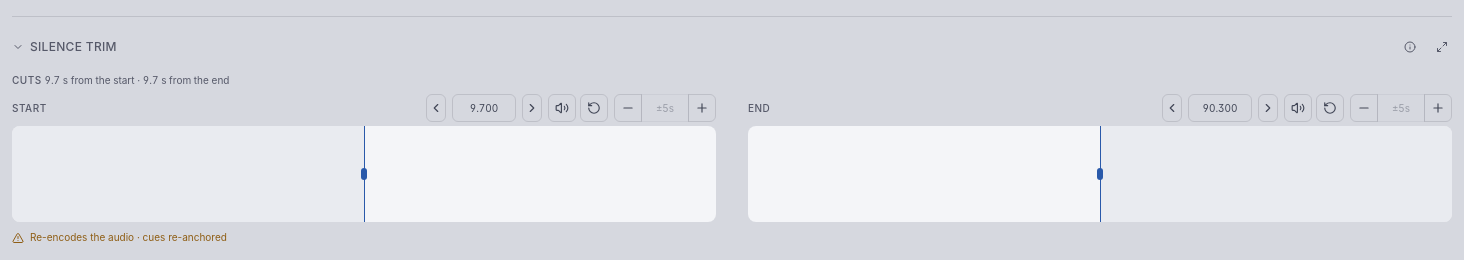
Scenario: TrimSection › zooms each lane independently of the other
The image size is (1464, 260).
Check: the button with test id "trim-context-start" reads "±5s", box x1=641 y1=94 x2=689 y2=122
Check: the button with test id "trim-context-end" reads "±5s", box x1=1377 y1=94 x2=1425 y2=122
# Narrowing the head lane leaves the tail lane exactly where it was.
Click the button with test id "trim-zoom-in-start". click: x=702, y=108
box: x1=688 y1=94 x2=716 y2=122
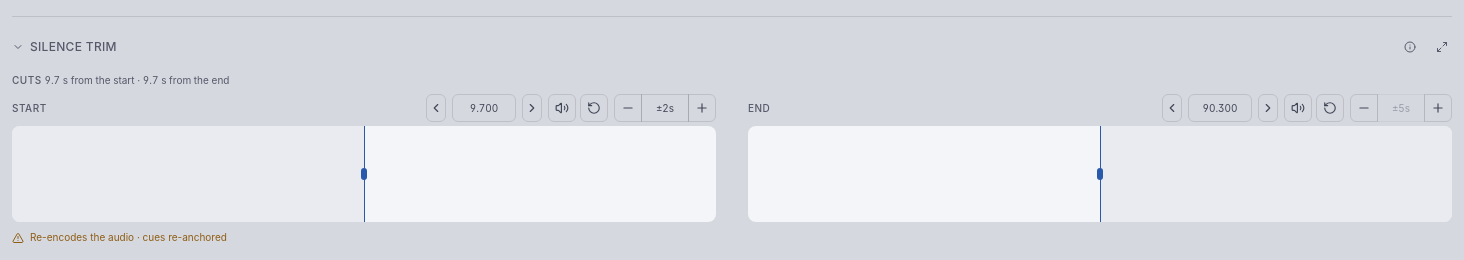
Click the button with test id "trim-zoom-in-start". click: x=702, y=108
box: x1=688 y1=94 x2=716 y2=122
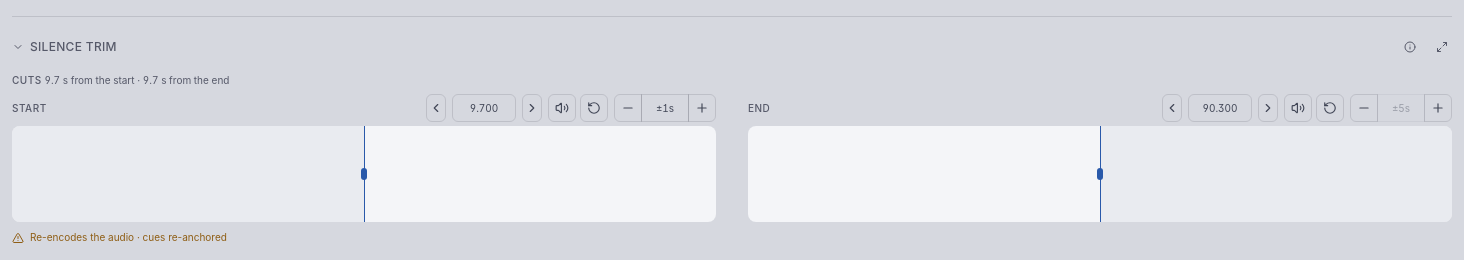
Check: the button with test id "trim-context-end" reads "±5s", box x1=1377 y1=94 x2=1425 y2=122
Check: the button with test id "trim-context-start" reads "±1s", box x1=641 y1=94 x2=689 y2=122
